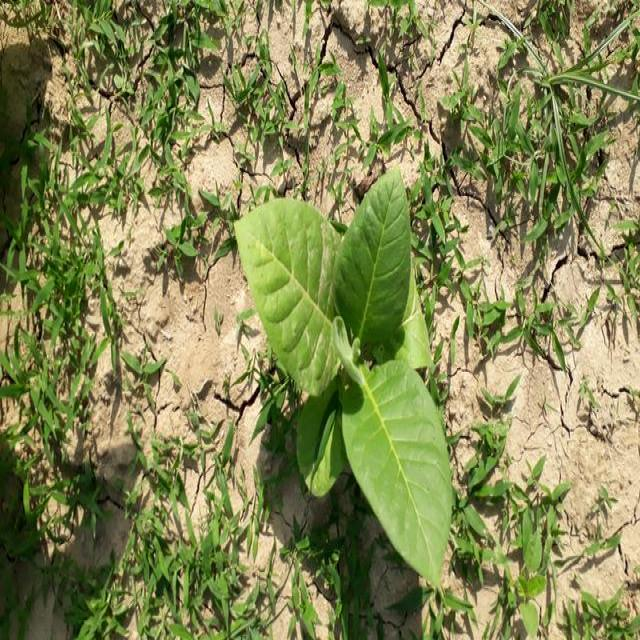crop: (242, 182, 460, 570)
